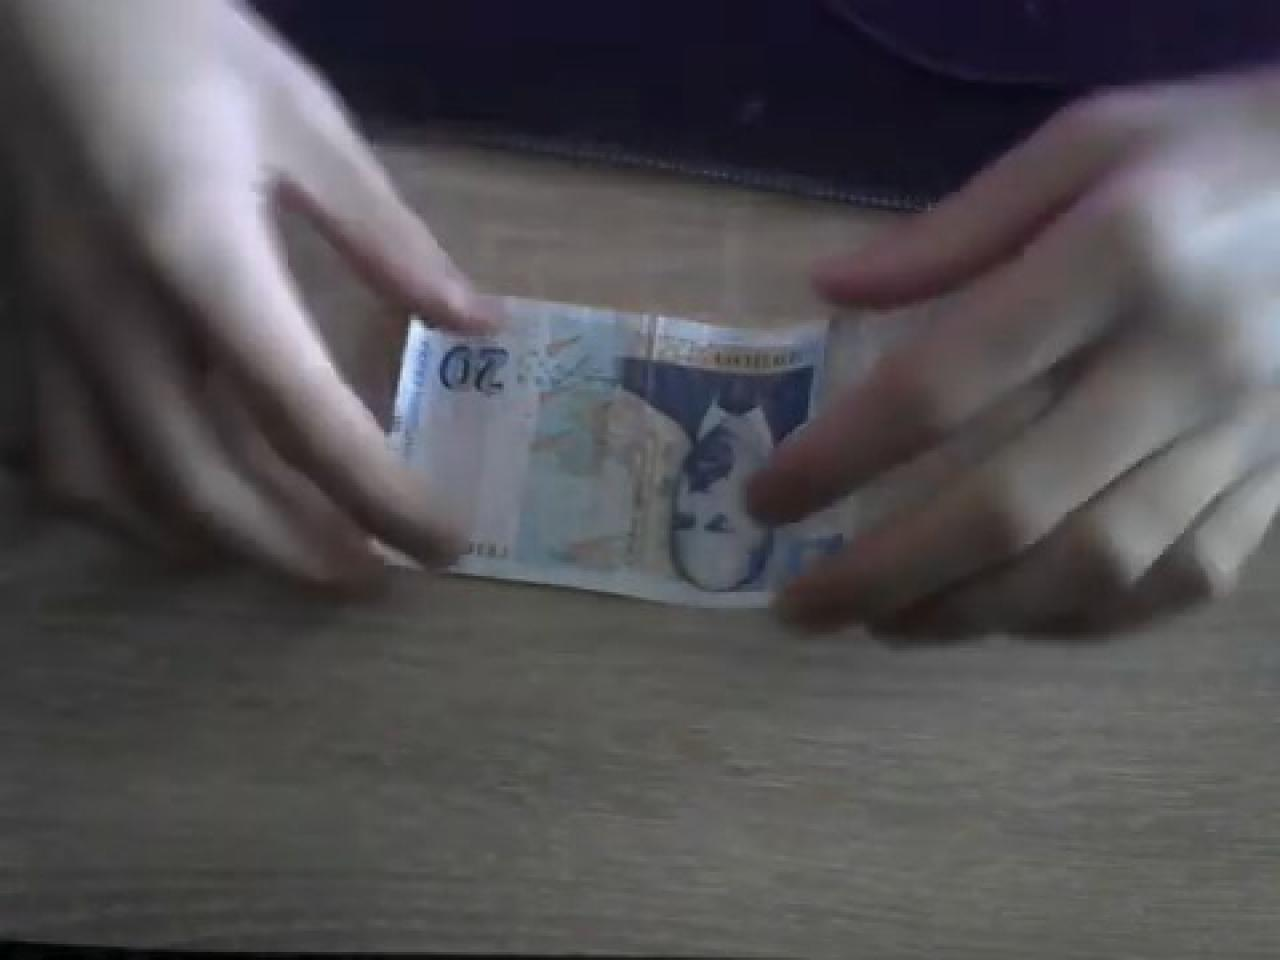20leva: (389, 298, 833, 613)
